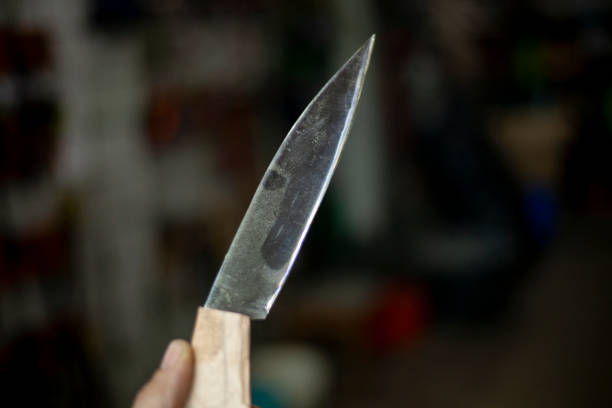knife: (181, 31, 379, 408)
